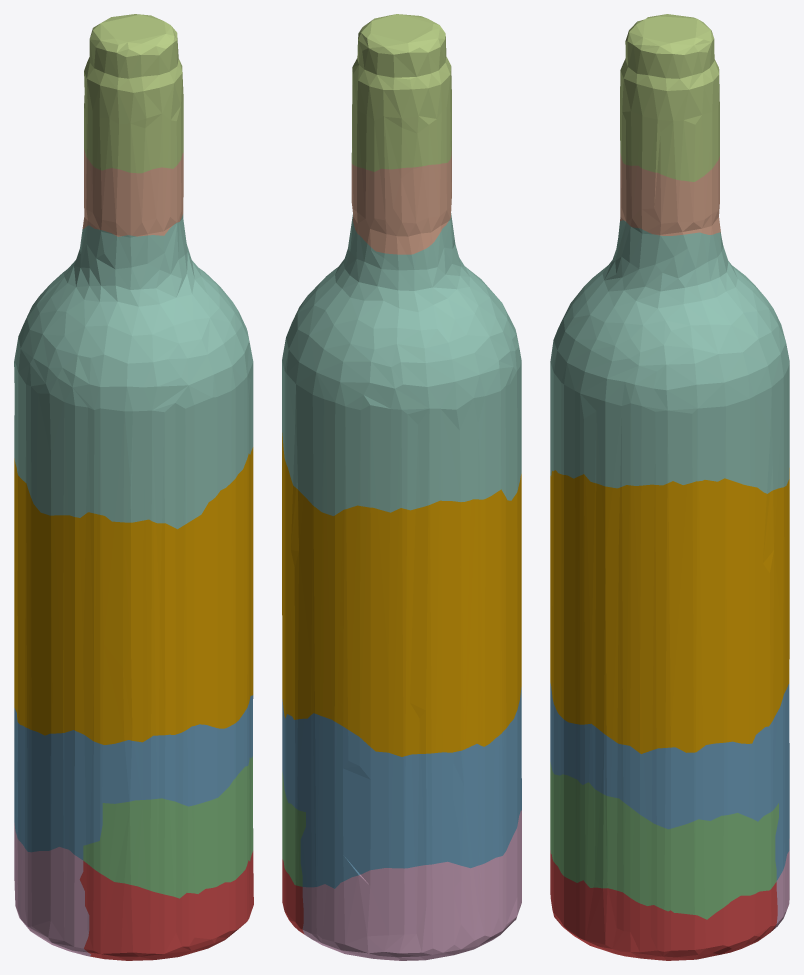
File: fractured_39_8pcs.glb
3 renders of one model, left to right at view 1: azimuth 30°, elevation 25°; view 2: azimuth 150°, elevation 25°; view 3: azimuth 270°, elevation 25°, orthographic.
Parts seen in each view (by area): view 1: piece_4.obj, piece_0.obj, piece_2.obj, piece_5.obj, piece_3.obj, piece_1.obj, piece_6.obj, piece_7.obj; view 2: piece_0.obj, piece_4.obj, piece_2.obj, piece_6.obj, piece_5.obj, piece_7.obj, piece_3.obj, piece_1.obj; view 3: piece_0.obj, piece_4.obj, piece_3.obj, piece_2.obj, piece_5.obj, piece_1.obj, piece_7.obj, piece_6.obj.
Part boxes in pixels (<box>): piece_4.obj: <box>14,214,253,529</box>; piece_0.obj: <box>14,447,253,744</box>; piece_2.obj: <box>14,695,253,860</box>; piece_5.obj: <box>84,14,183,173</box>; piece_3.obj: <box>83,756,253,898</box>; piece_1.obj: <box>79,851,253,960</box>; piece_6.obj: <box>14,823,90,956</box>; piece_7.obj: <box>82,149,183,236</box>; piece_0.obj: <box>282,433,521,756</box>; piece_4.obj: <box>282,213,521,515</box>; piece_2.obj: <box>282,687,521,888</box>; piece_6.obj: <box>302,810,521,960</box>; piece_5.obj: <box>351,14,451,171</box>; piece_7.obj: <box>351,151,451,254</box>; piece_3.obj: <box>282,772,305,886</box>; piece_1.obj: <box>282,859,304,934</box>; piece_0.obj: <box>550,468,789,753</box>; piece_4.obj: <box>550,220,789,493</box>; piece_3.obj: <box>550,762,778,919</box>; piece_2.obj: <box>550,683,789,880</box>; piece_5.obj: <box>620,14,719,181</box>; piece_1.obj: <box>550,850,777,960</box>; piece_7.obj: <box>620,153,720,235</box>; piece_6.obj: <box>774,839,789,928</box>.
Size of the model in its own units: 0.2438 by 1 by 0.2439.
